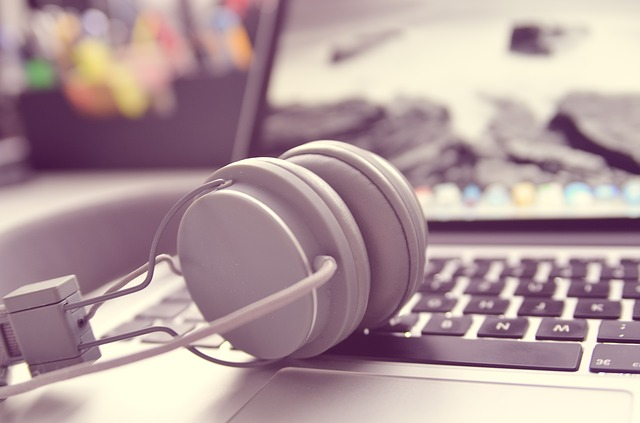headphones: (1, 141, 429, 403)
